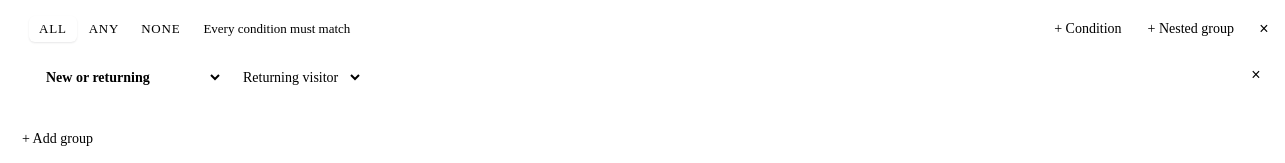
Test: ConditionBuilder › switches a group between ALL, ANY and NONE
The image size is (1285, 163).
Click the button "NONE": click(161, 29) top-left (131, 16), bottom-right (190, 42)
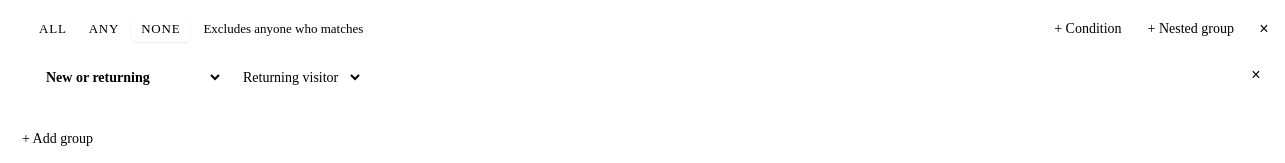
Expected: the text "Excludes anyone who matches" is shown, top-left (203, 21), bottom-right (363, 37)
